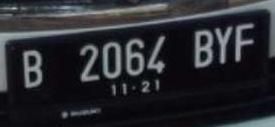0: (101, 38, 124, 82)
2: (77, 42, 101, 84)
4: (146, 31, 168, 76)
6: (124, 34, 145, 78)
B: (18, 48, 46, 92), (192, 25, 216, 72)
F: (234, 19, 256, 64)
Y: (215, 23, 233, 68)
